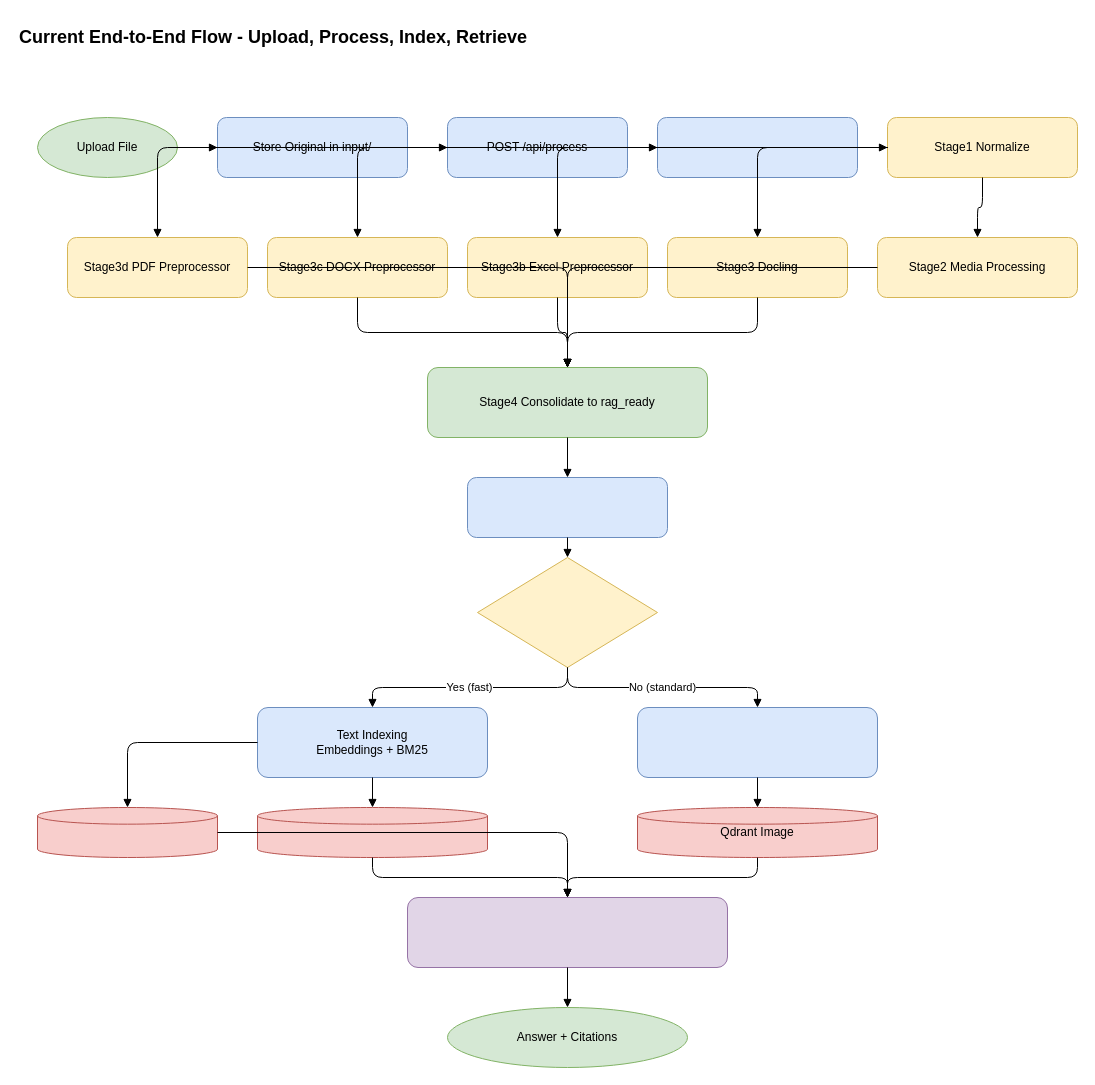
Some shapes in this 1095 by 1085 pixel diagram are drawn without their labels. The centre of each missing label's shape, as x and y in pixels:
"Acquire Per-User Lock" belongs at pixel 757 147.
"BM25 Sidecar" belongs at pixel 127 832.
"Image Indexing ColQwen Multivectors" belongs at pixel 757 742.
"Mode = fast?" belongs at pixel 567 612.
"POST /api/index" belongs at pixel 567 507.
"Qdrant Text" belongs at pixel 372 832.
"Search Orchestrator (text + image merge + optional generation)" belongs at pixel 567 932.
